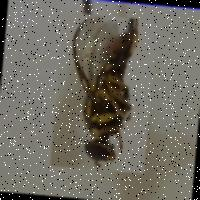Oriental-fruit-fly: (50, 12, 157, 174)
